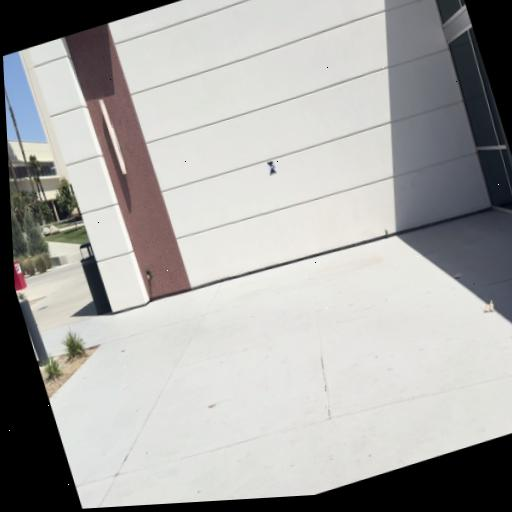target0: (266, 160, 278, 175)
